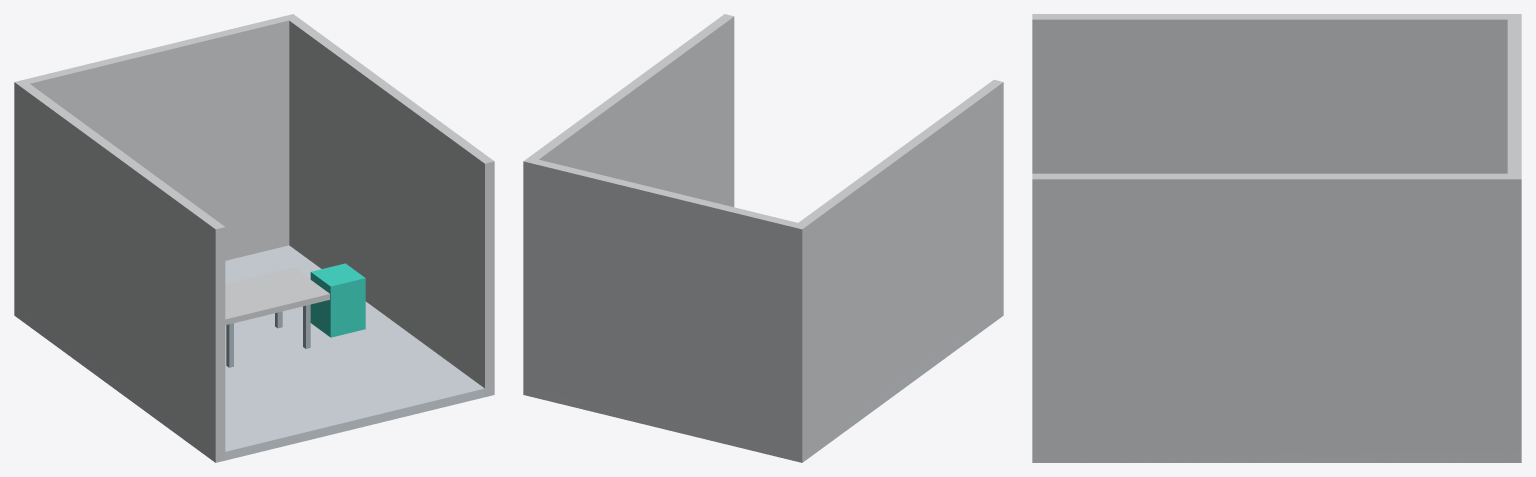
3 renders of one model, left to right at view 1: azimuth 30°, elevation 25°; view 2: azimuth 150°, elevation 25°; view 3: azimuth 270°, elevation 25°, orthographic. The views are drawn at different scales.
Parts seen in each view (by area): view 1: Exhibition Booth Concept; view 2: Exhibition Booth Concept; view 3: Exhibition Booth Concept.
Boxes of the visible parts, left/top/right/bottom form: Exhibition Booth Concept: left=14, top=14, right=494, bottom=462; Exhibition Booth Concept: left=523, top=14, right=1003, bottom=462; Exhibition Booth Concept: left=1032, top=14, right=1521, bottom=462.
Size of the model in its own units: 4 by 3.2 by 5.
